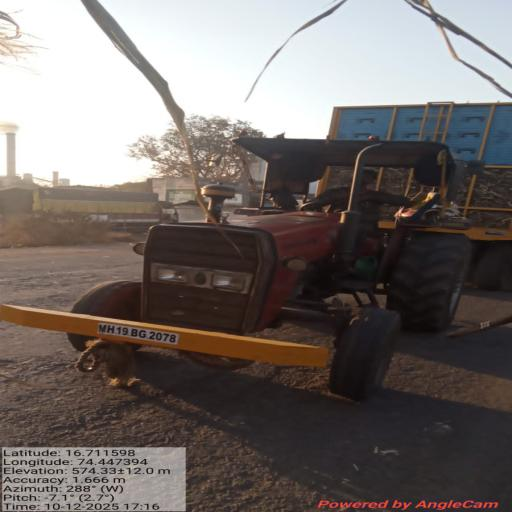number_plate: (66, 310, 214, 356)
